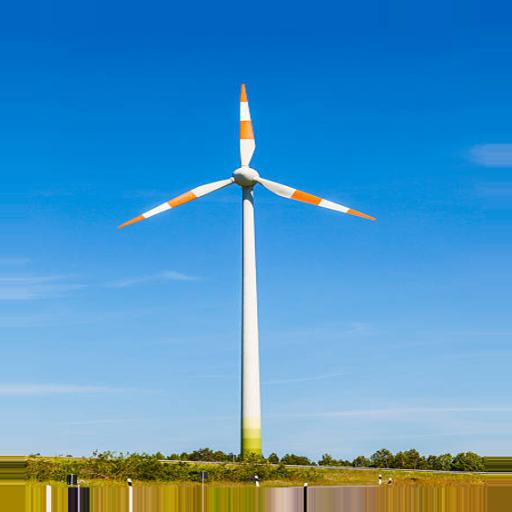wind turbine: (116, 84, 383, 459)
